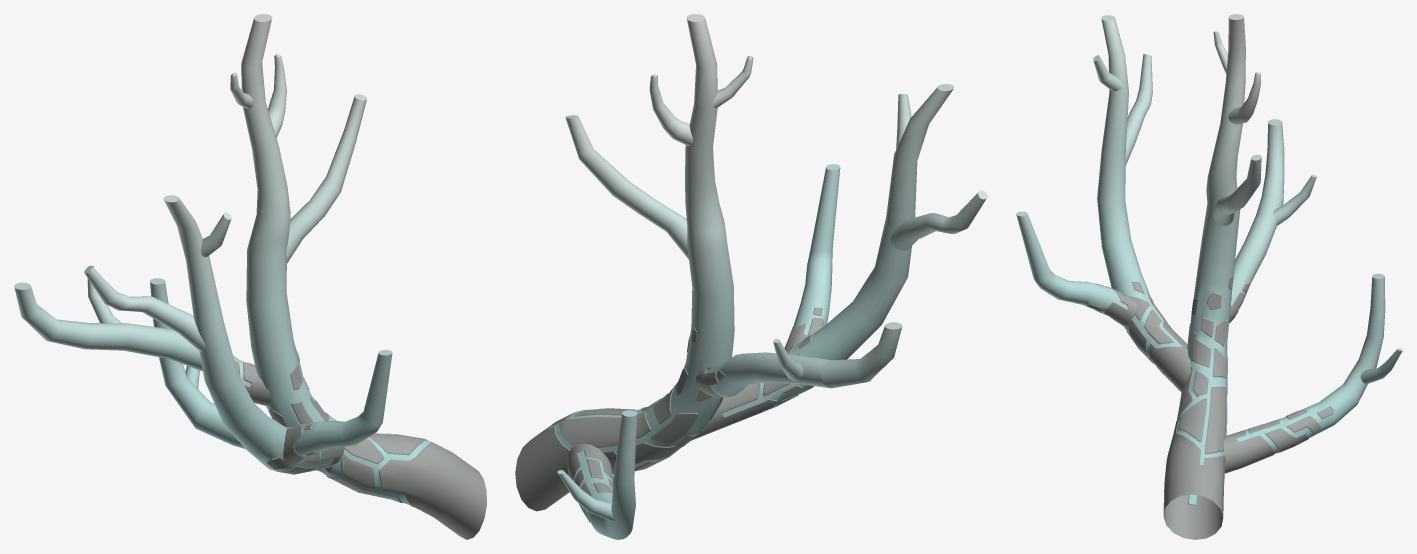
The picture shows the model from 3 angles, left to right: view 1: azimuth 30°, elevation 25°; view 2: azimuth 150°, elevation 25°; view 3: azimuth 270°, elevation 25°; orthographic projection. The views are drawn at different scales.
Visible parts, largest first — view 1: G:\FFXIV-MapTools\exports\x6f3\bg\ex5\01_xkt_x6\fld\x6f3\bgp (×3); view 2: G:\FFXIV-MapTools\exports\x6f3\bg\ex5\01_xkt_x6\fld\x6f3\bgp (×3); view 3: G:\FFXIV-MapTools\exports\x6f3\bg\ex5\01_xkt_x6\fld\x6f3\bgp (×3).
Boxes of the visible parts, x1,y1,x2,y2 form: G:\FFXIV-MapTools\exports\x6f3\bg\ex5\01_xkt_x6\fld\x6f3\bgp (×3): [14, 14, 486, 539]; G:\FFXIV-MapTools\exports\x6f3\bg\ex5\01_xkt_x6\fld\x6f3\bgp (×3): [515, 14, 987, 539]; G:\FFXIV-MapTools\exports\x6f3\bg\ex5\01_xkt_x6\fld\x6f3\bgp (×3): [1016, 14, 1402, 539].
Size of the model in its own units: 53.85 by 66.28 by 51.3.
